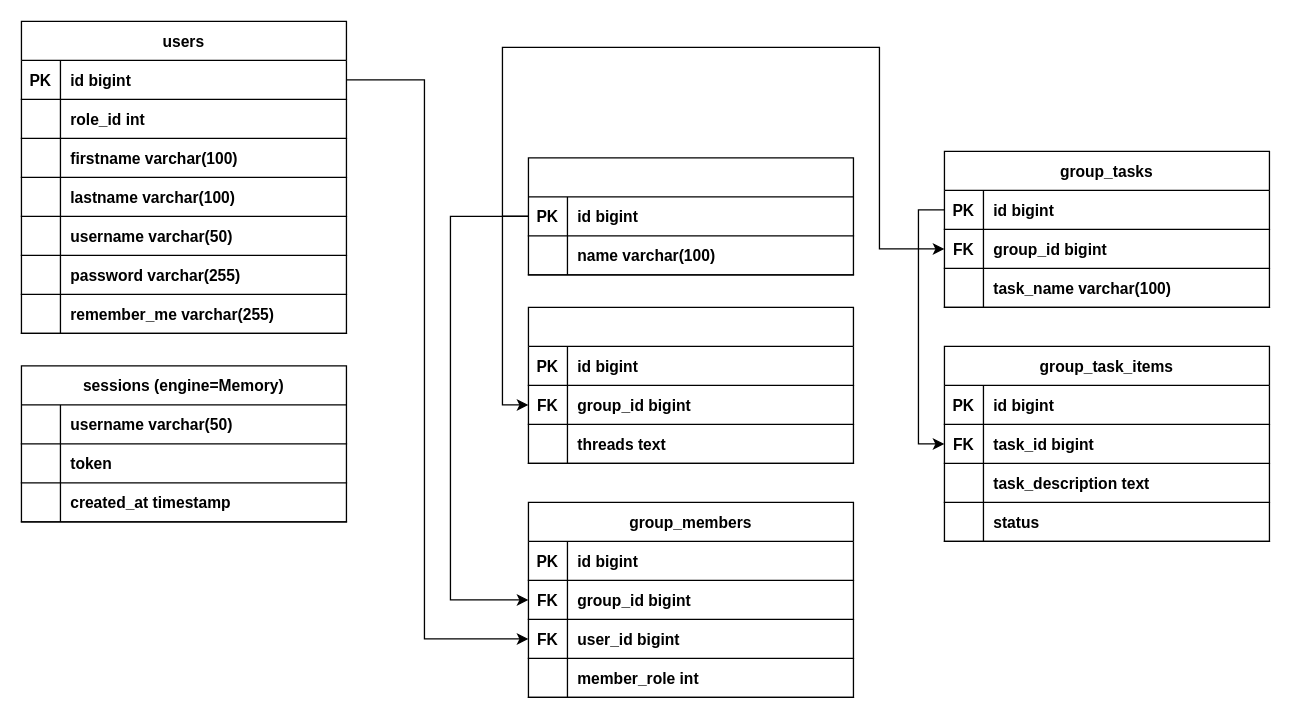
Image size: 1291x719. Some labels were removed from this diagram. Here are the shapes that lost their labels. From the top down, the box of each, then its label:
(527, 157, 853, 275): groups
(527, 306, 853, 463): group_chat
